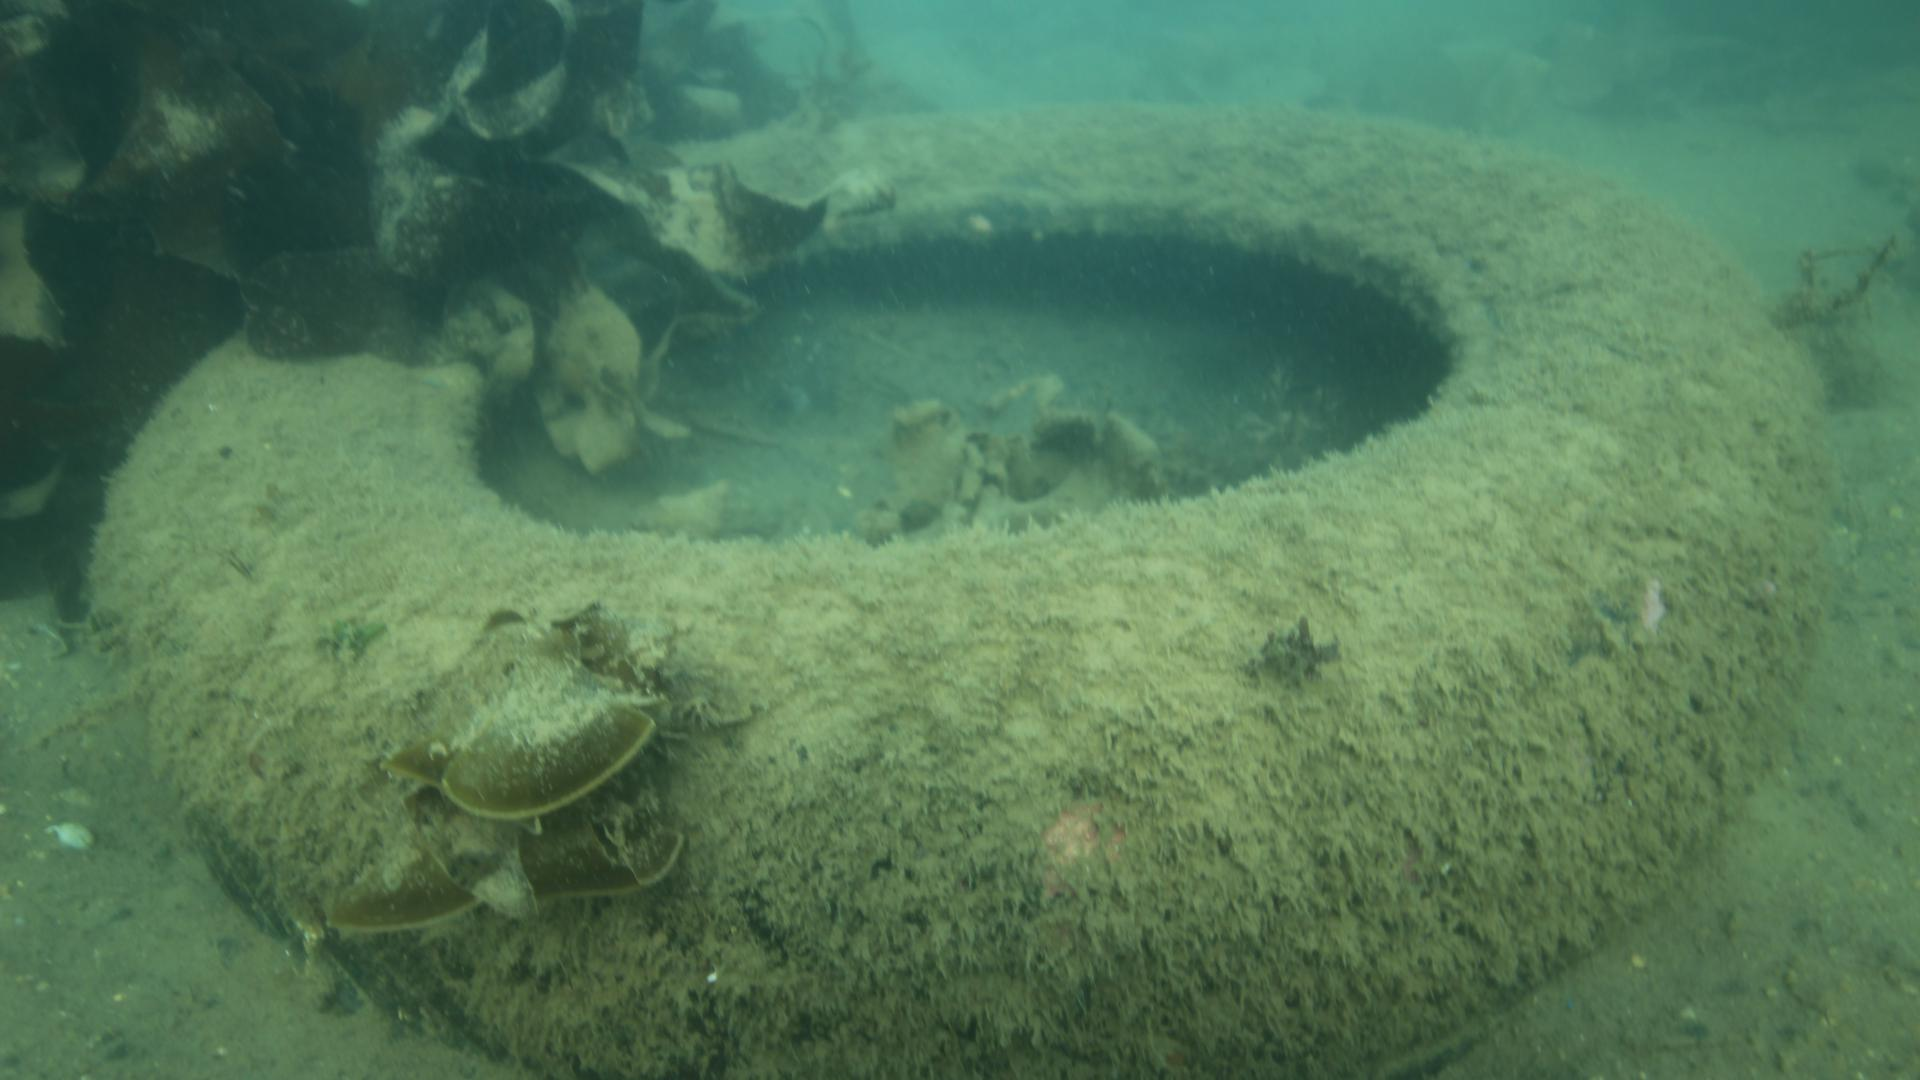tire: (86, 96, 1830, 1080)
